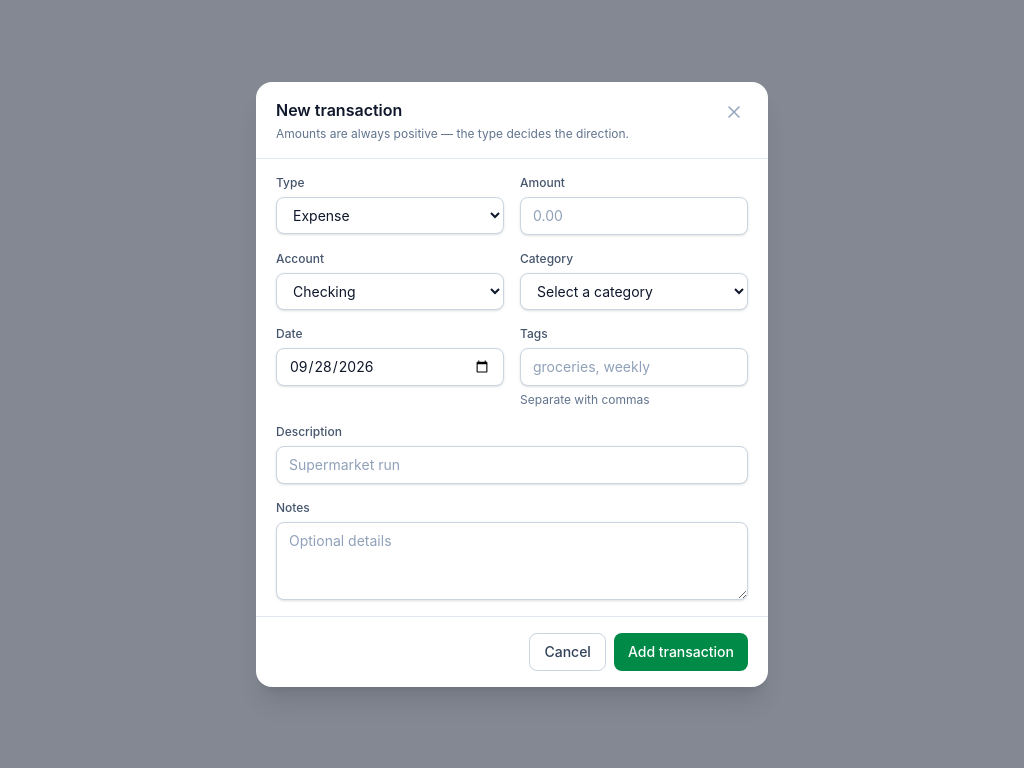
it: TransactionForm validation › rejects a zero amount
Type "0" into the number field labelled "Amount" at [634, 216], box [520,196,748,234]
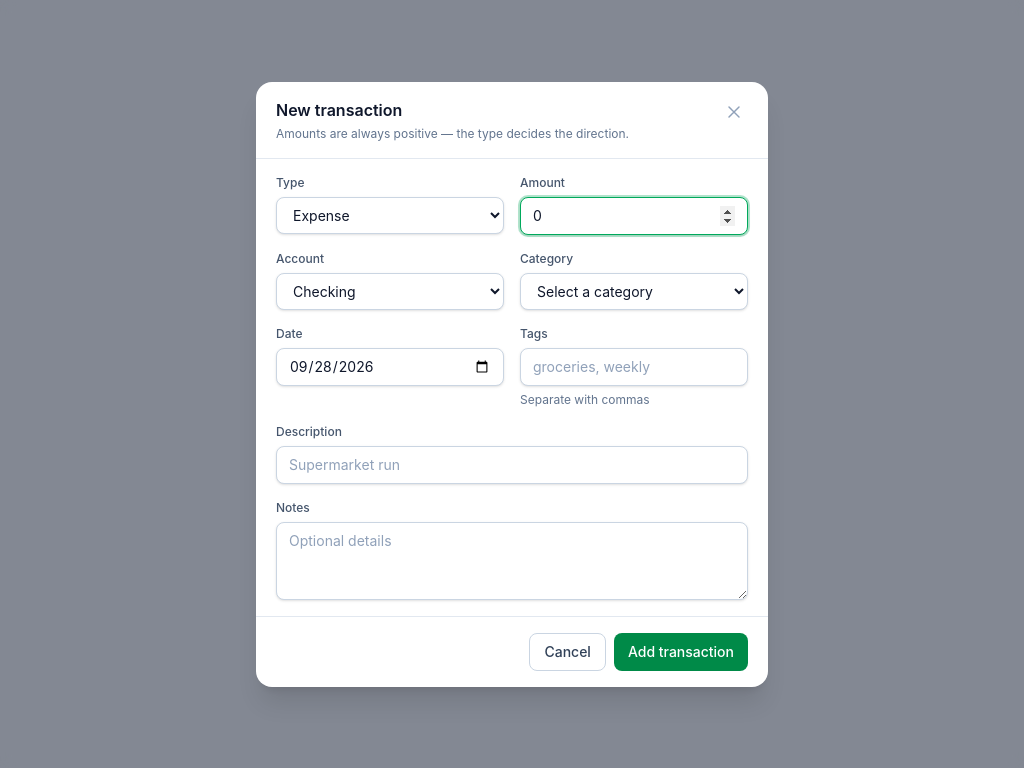
Type "Nothing" into the field labelled "Description" at [512, 464], box [276,446,748,484]
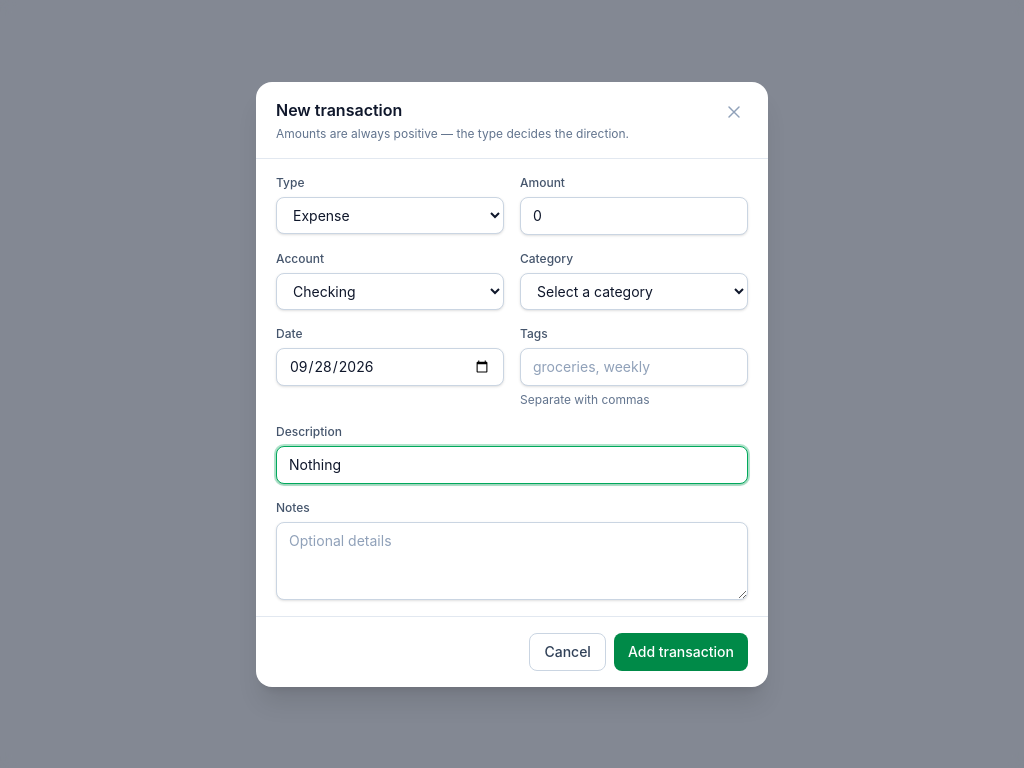
Select "Groceries" in the dropdown labelled "Category" at [634, 291], box [520,272,748,310]
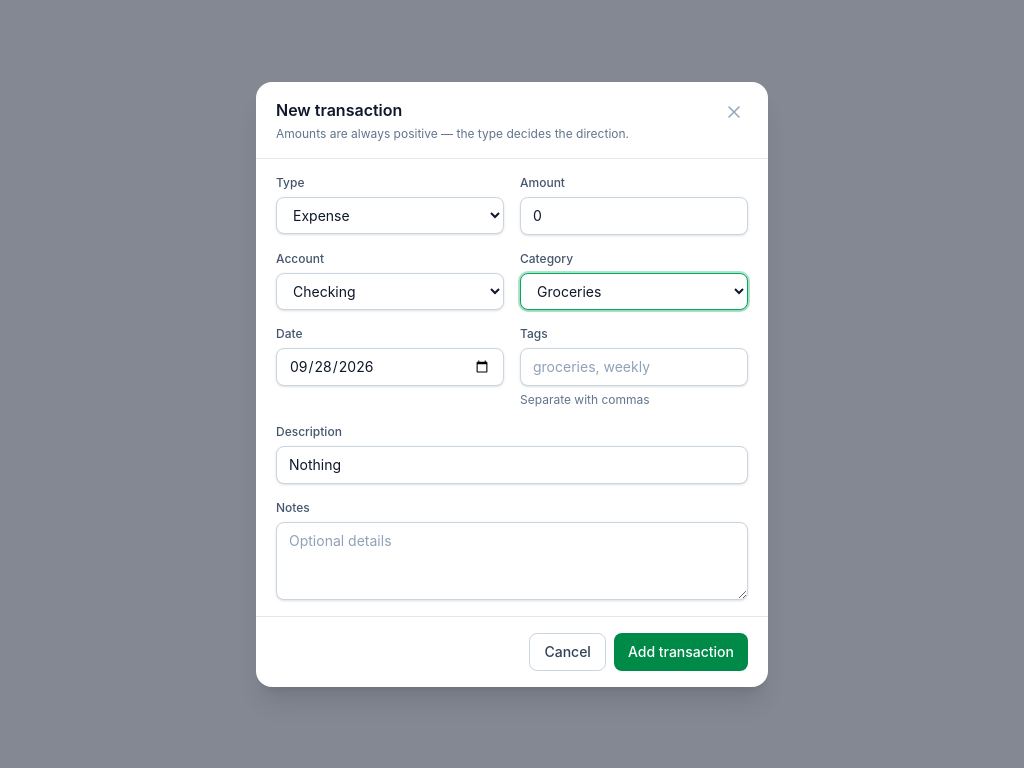
Click the button "Add transaction" at [681, 652], box [614,632,748,670]
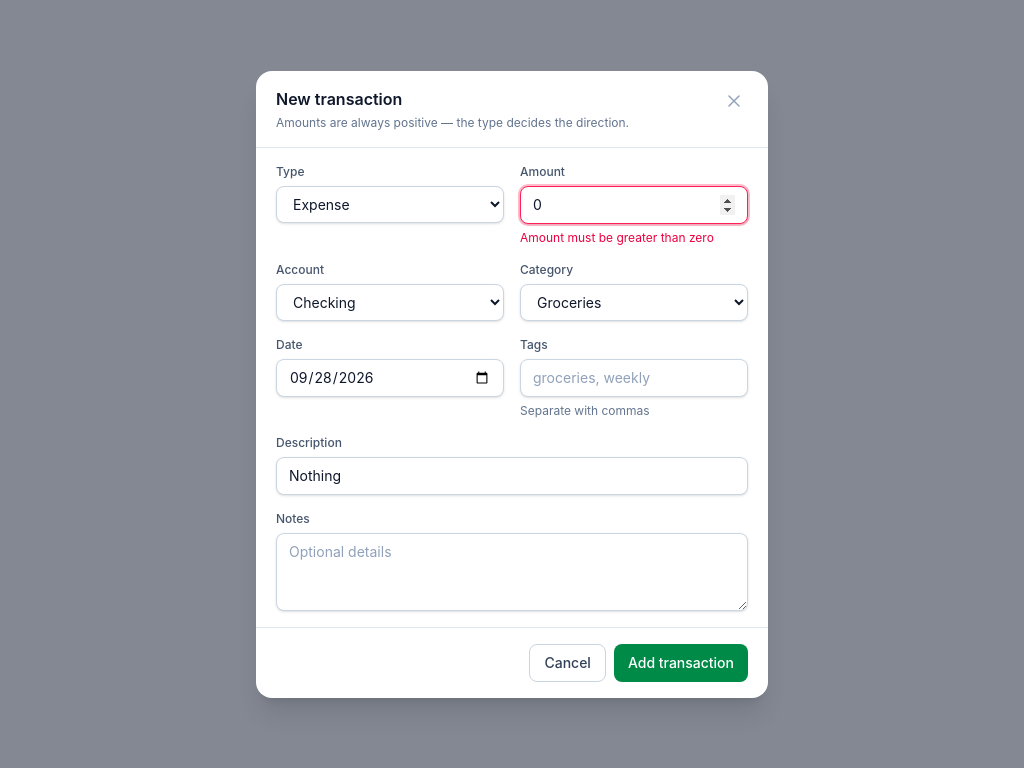
Expected: the text "Amount must be greater than zero" is shown, [520,230,748,246]
